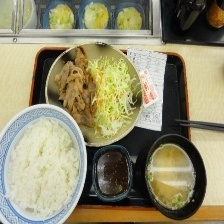rice: (3, 115, 84, 219)
